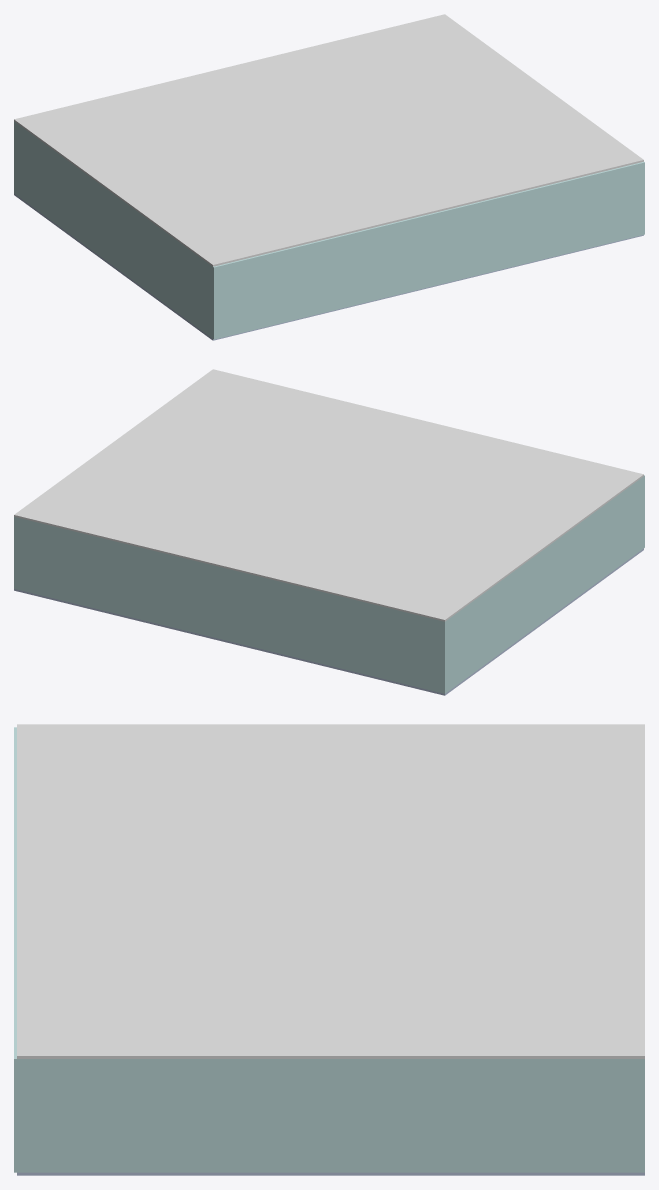
File: demo_scene.glb
3 renders of one model, top to bottom at view 1: azimuth 30°, elevation 25°; view 2: azimuth 150°, elevation 25°; view 3: azimuth 270°, elevation 25°, orthographic. The views are drawn at different scales.
Parts seen in each view (by area): view 1: Cube.001, Cube.005, Cube, Cube.006; view 2: Cube.001, Cube.004, Cube, Cube.006; view 3: Cube.001, Cube.003, Cube.006, Cube.005.
Part boxes in pixels (left/top/right/bottom): Cube.001: left=14, top=14, right=643, bottom=266; Cube.005: left=213, top=161, right=644, bottom=339; Cube: left=14, top=121, right=212, bottom=338; Cube.006: left=14, top=193, right=643, bottom=340; Cube.001: left=14, top=369, right=643, bottom=621; Cube.004: left=14, top=517, right=443, bottom=693; Cube: left=443, top=476, right=643, bottom=693; Cube.006: left=14, top=548, right=643, bottom=695; Cube.001: left=17, top=724, right=644, bottom=1058; Cube.003: left=17, top=1059, right=644, bottom=1172; Cube.006: left=17, top=1172, right=644, bottom=1175; Cube.005: left=14, top=727, right=16, bottom=1172.
Bounding box in the file's own units: 25 × 4.2 × 20.1.
